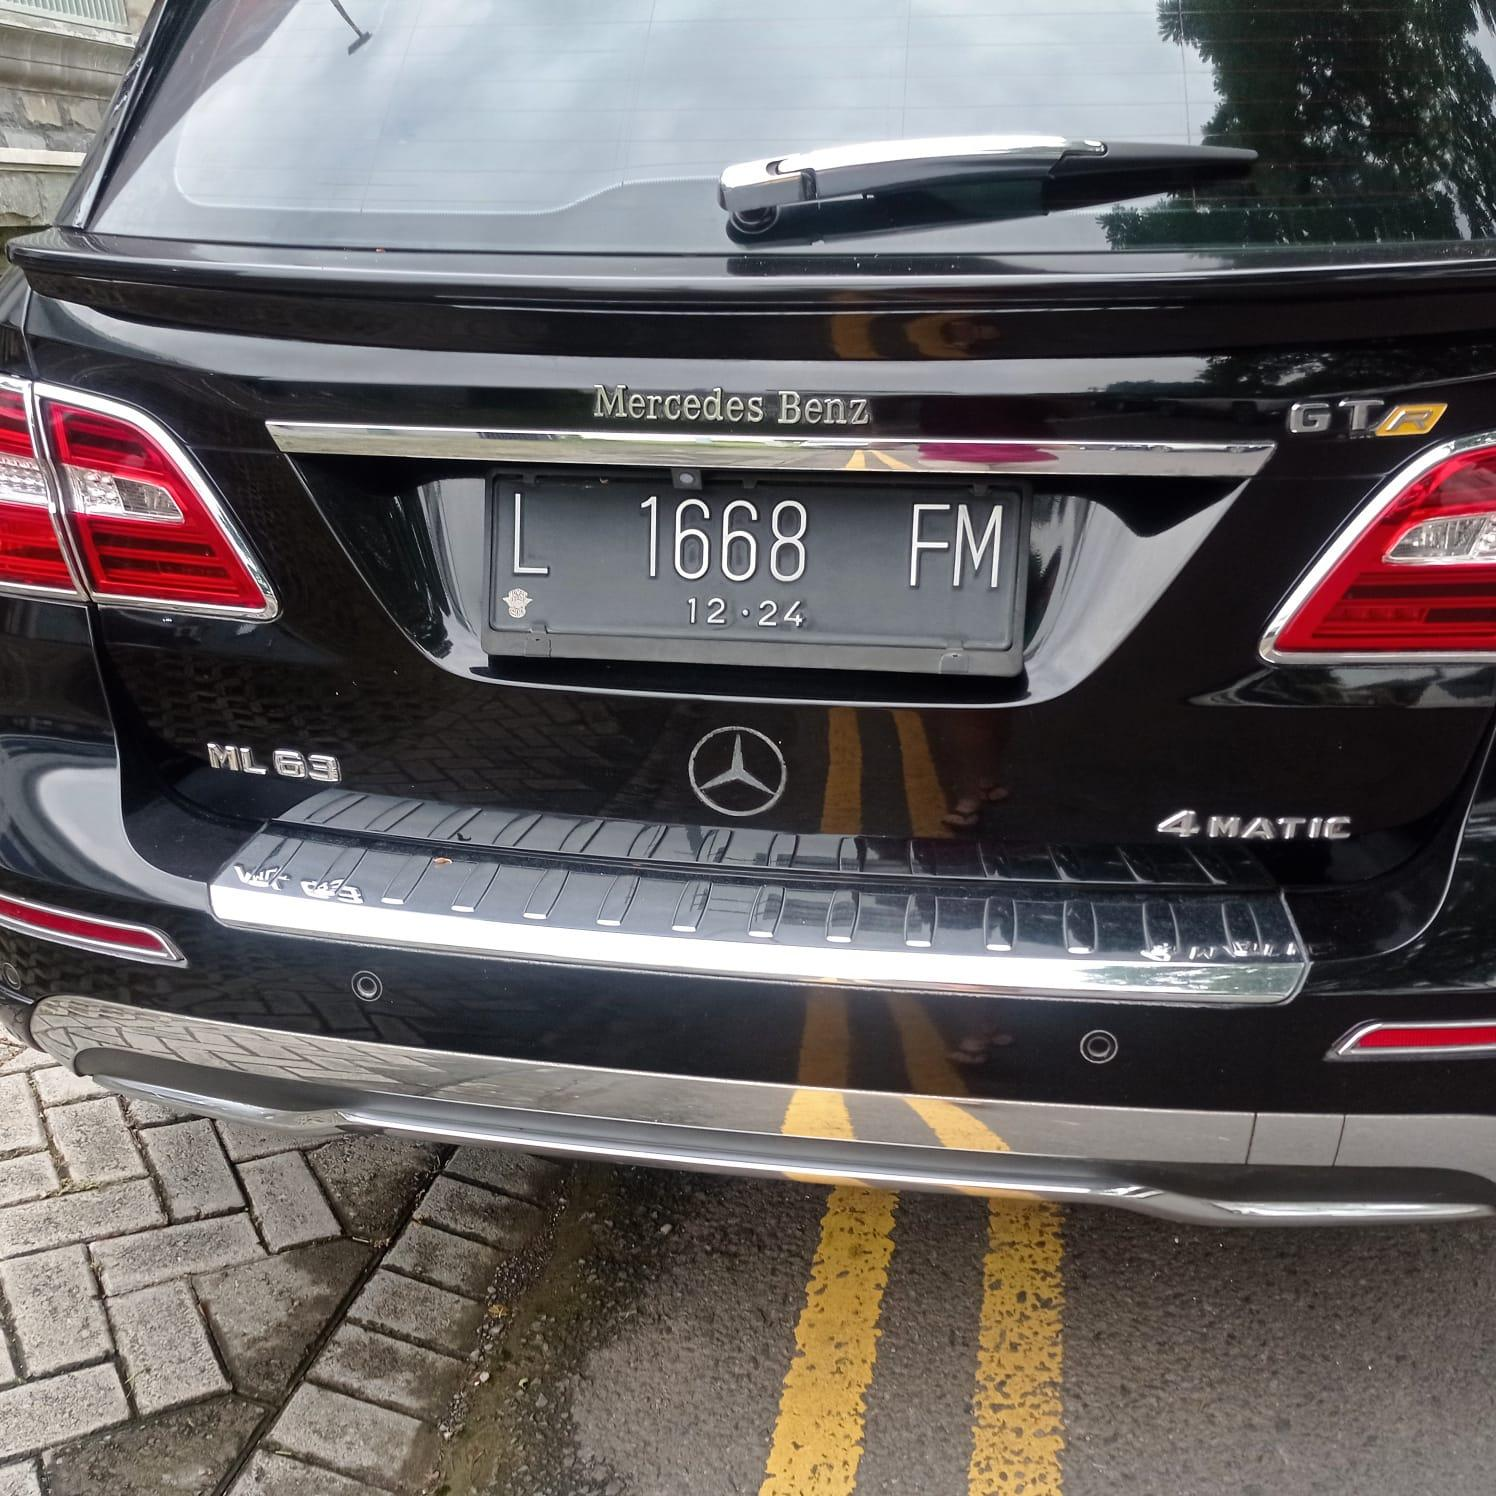plat: (482, 477, 1022, 675)
